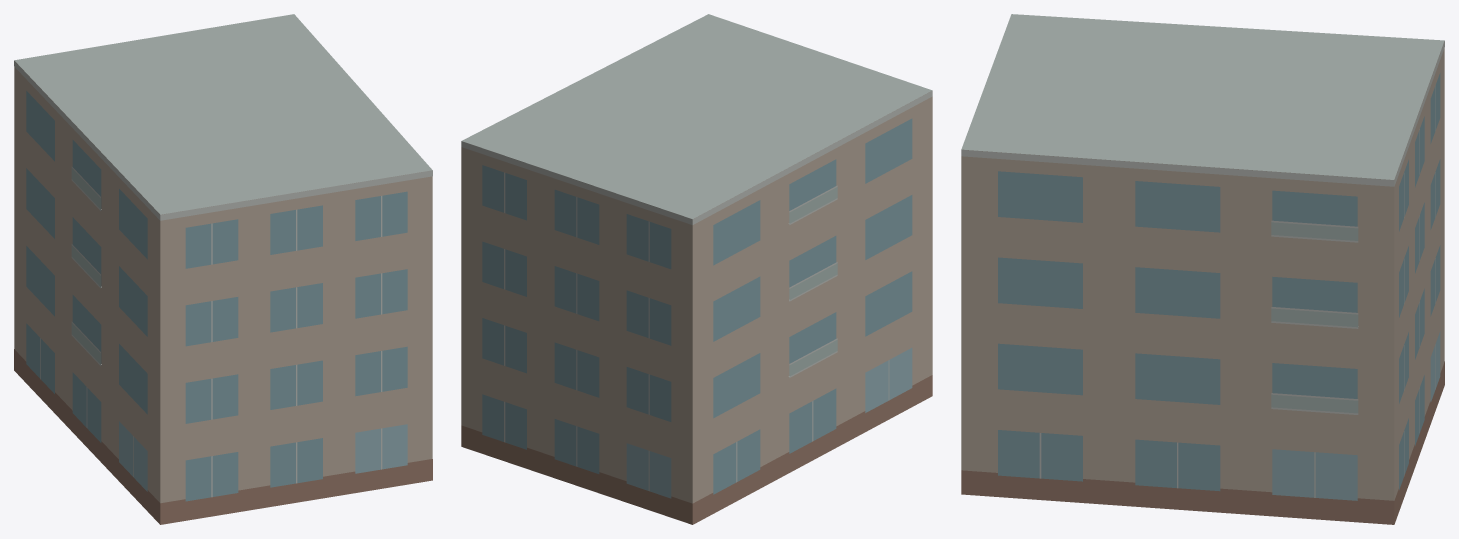
File: survey-upis-32487835.glb
3 views of the same model, side by side, from view 1: azimuth 30°, elevation 25°; view 2: azimuth 150°, elevation 25°; view 3: azimuth 270°, elevation 25° (orthographic). The views are drawn at different scales.
Parts seen in each view (by area): view 1: survey-upis-32487835.tmp; view 2: survey-upis-32487835.tmp; view 3: survey-upis-32487835.tmp.
Part boxes in pixels (x1,y1,x2,y2): survey-upis-32487835.tmp: (14, 14, 432, 524); survey-upis-32487835.tmp: (461, 14, 932, 524); survey-upis-32487835.tmp: (961, 14, 1444, 524).
Size of the model in its own units: 12.87 by 12.45 by 15.83.
